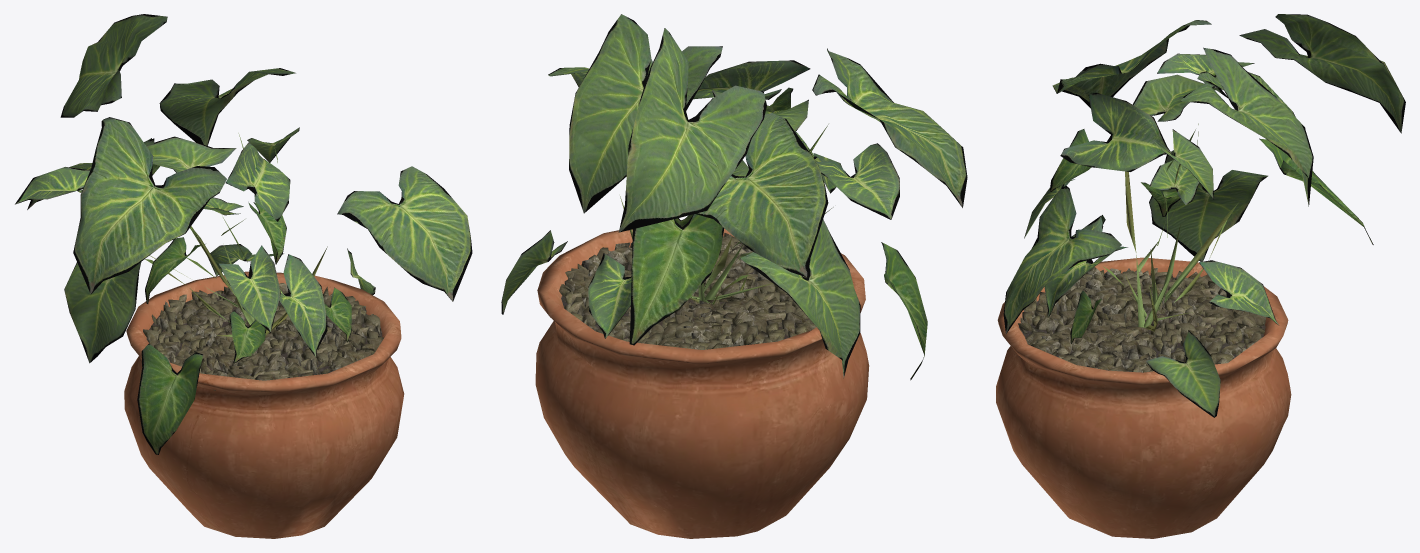
File: potted_plant_02.glb
The picture shows the model from 3 angles, left to right: view 1: azimuth 30°, elevation 25°; view 2: azimuth 150°, elevation 25°; view 3: azimuth 270°, elevation 25°; orthographic projection. The views are drawn at different scales.
Visible parts, largest first — view 1: potted_plant_02_leaves, potted_plant_02_pot; view 2: potted_plant_02_leaves, potted_plant_02_pot; view 3: potted_plant_02_pot, potted_plant_02_leaves.
Boxes of the visible parts, left/top/right/bottom form: potted_plant_02_leaves: left=15, top=14, right=472, bottom=454; potted_plant_02_pot: left=124, top=271, right=404, bottom=538; potted_plant_02_leaves: left=501, top=14, right=967, bottom=380; potted_plant_02_pot: left=535, top=228, right=869, bottom=538; potted_plant_02_pot: left=996, top=257, right=1291, bottom=538; potted_plant_02_leaves: left=1003, top=14, right=1405, bottom=417.
Bounding box in the file's own units: 0.7009 × 0.8395 × 0.6554.
2 materials, 2 textured.
